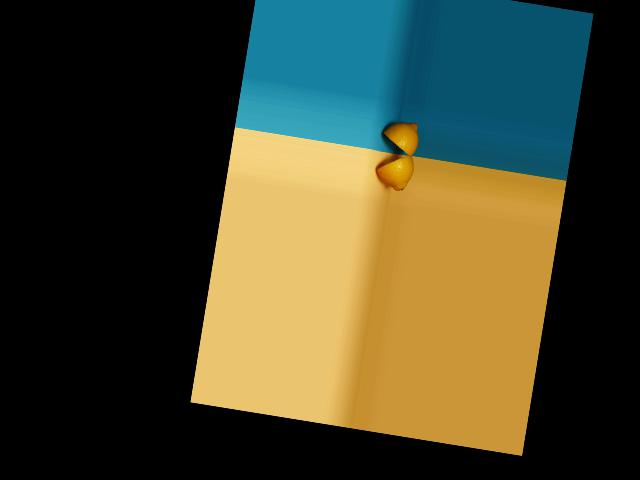lemon: (377, 113, 423, 158)
